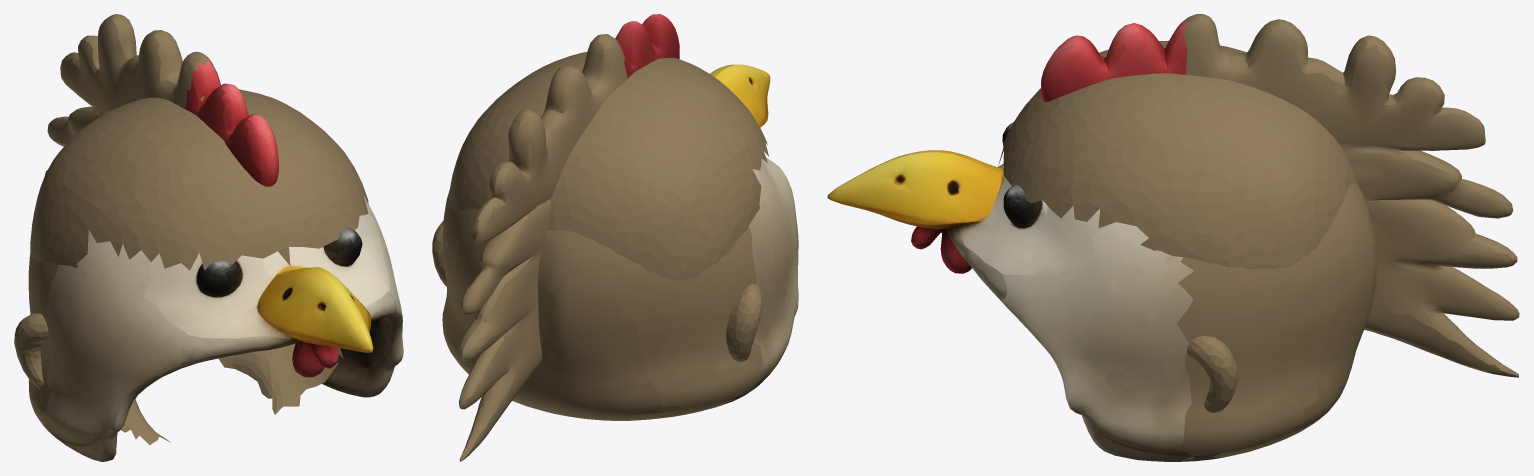
The model's file is chicken.glb.
3 renders of one model, left to right at view 1: azimuth 30°, elevation 25°; view 2: azimuth 150°, elevation 25°; view 3: azimuth 270°, elevation 25°, orthographic. The views are drawn at different scales.
Parts seen in each view (by area): view 1: geometry_0, HoodAnatomicalLining; view 2: geometry_0, HoodAnatomicalLining; view 3: geometry_0, HoodAnatomicalLining.
Boxes of the visible parts, x1,y1,x2,y2 form: geometry_0: (28, 14, 403, 461); HoodAnatomicalLining: (14, 89, 368, 444); geometry_0: (442, 14, 798, 461); HoodAnatomicalLining: (432, 52, 768, 361); geometry_0: (827, 14, 1519, 461); HoodAnatomicalLining: (998, 40, 1356, 412).
Size of the model in its own units: 0.4688 by 0.4681 by 0.772.
Materials: 2 (1 with a texture image).
